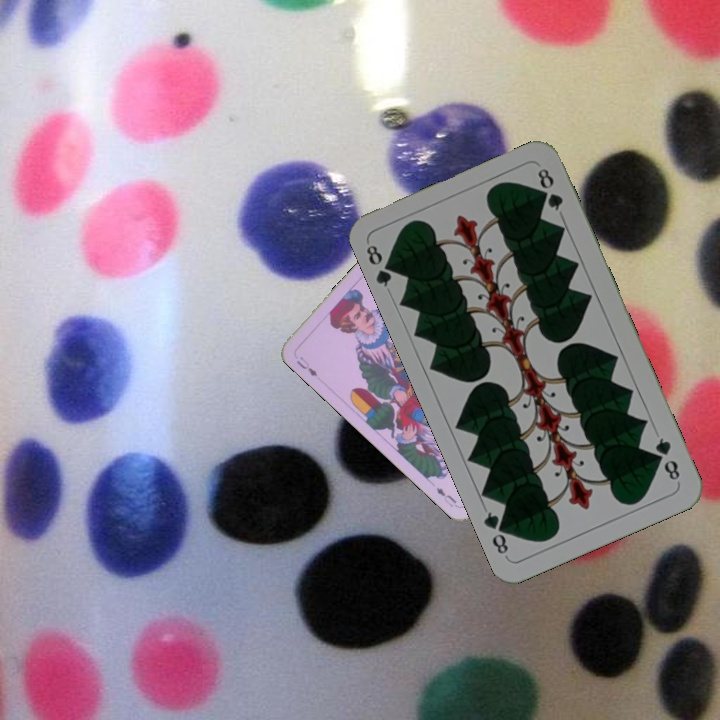EU: (292, 352, 320, 379)
G8: (362, 238, 400, 290), (651, 433, 683, 483)
